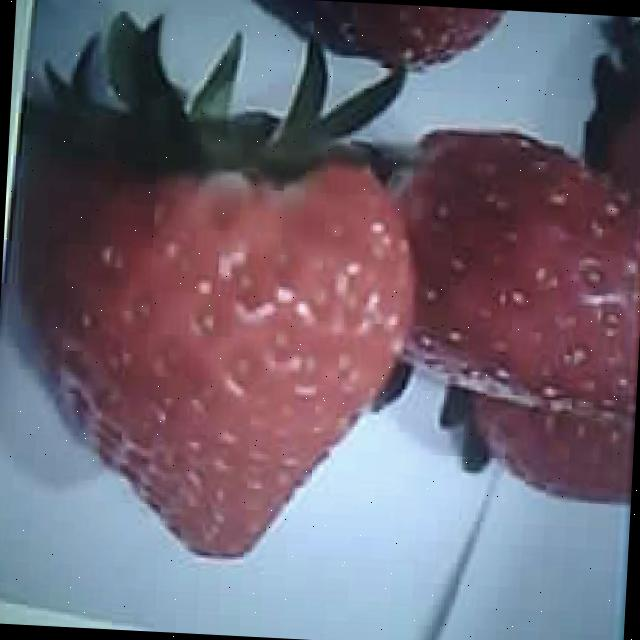strawberry: (13, 123, 417, 566)
